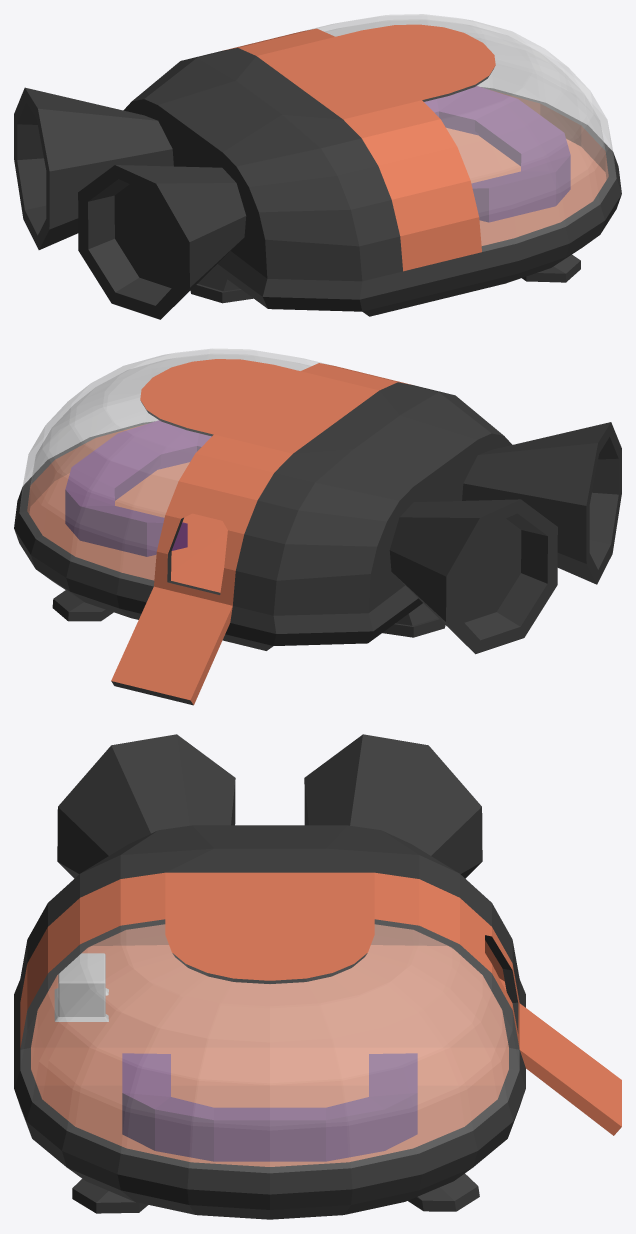
The model's file is Spaceship2.glb.
3 views of the same model, one above another, from view 1: azimuth 30°, elevation 25°; view 2: azimuth 150°, elevation 25°; view 3: azimuth 270°, elevation 25° (orthographic). The views are drawn at different scales.
Parts seen in each view (by area): view 1: vaisseau, controlpanel; view 2: vaisseau, controlpanel; view 3: vaisseau, controlpanel, ScienceTable.
Boxes of the visible parts, left/top/right/bottom form: vaisseau: left=14, top=14, right=621, bottom=319; controlpanel: left=424, top=86, right=570, bottom=222; vaisseau: left=14, top=348, right=621, bottom=705; controlpanel: left=65, top=420, right=211, bottom=556; vaisseau: left=14, top=734, right=621, bottom=1219; controlpanel: left=122, top=1053, right=417, bottom=1161; ScienceTable: left=54, top=953, right=108, bottom=1021.
Size of the model in its own units: 15.89 by 5.32 by 13.07.
